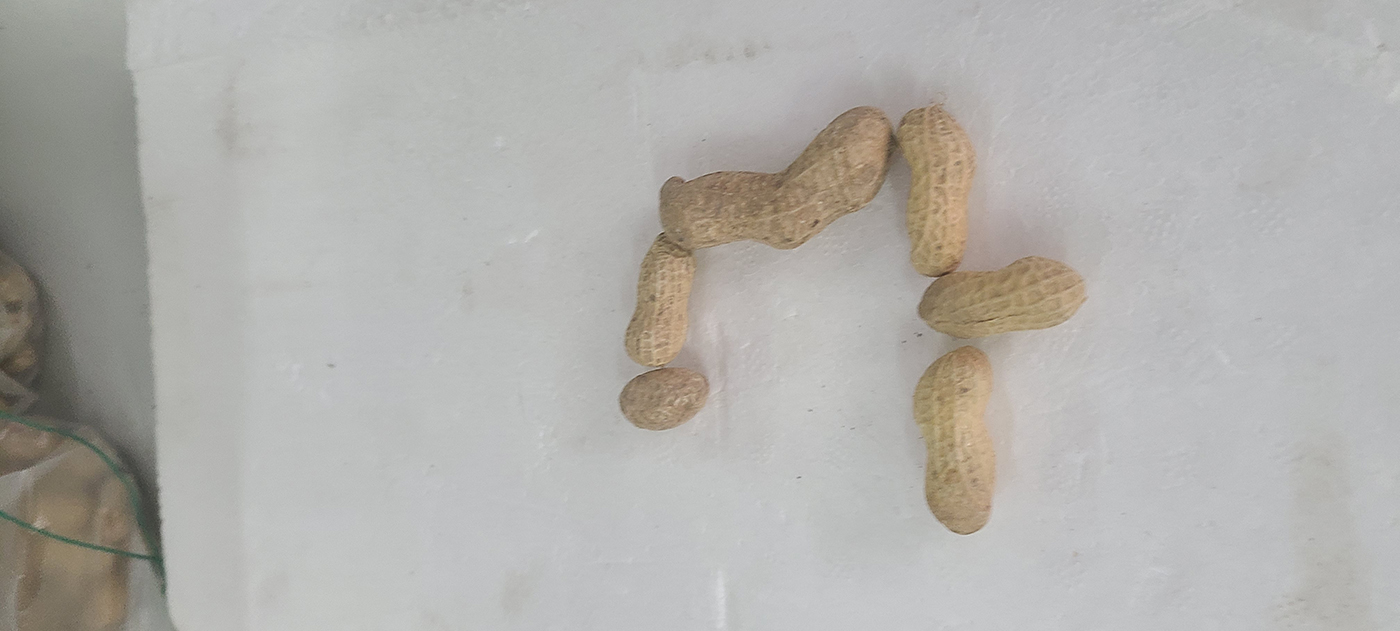h: (657, 107, 894, 252), (914, 350, 997, 535), (916, 256, 1087, 340), (892, 106, 975, 278), (622, 234, 696, 364)
l: (619, 369, 710, 429)
